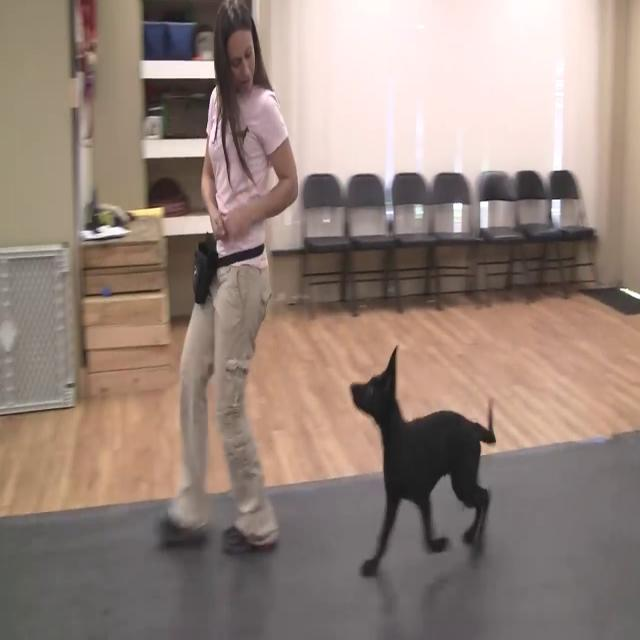Unleashed_Dog: (220, 268, 497, 577)
